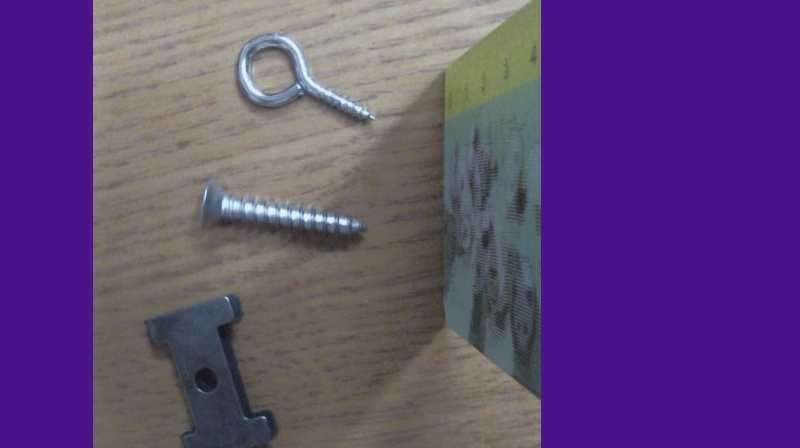O001: (233, 28, 380, 126)
O002: (143, 290, 277, 447)
S001: (199, 175, 369, 239)
